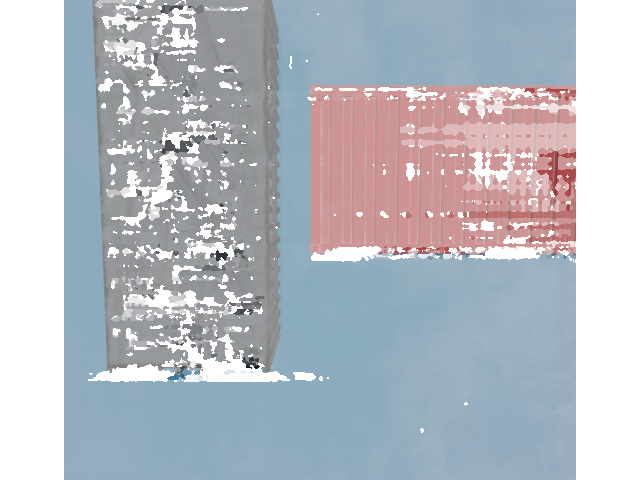container1: (87, 0, 283, 370)
container5: (306, 84, 640, 257)
